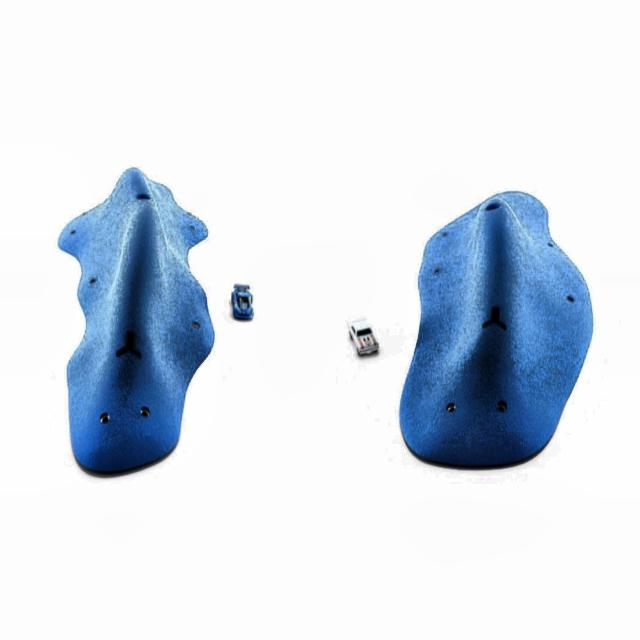Hold: (57, 152, 217, 488), (404, 182, 582, 473)
